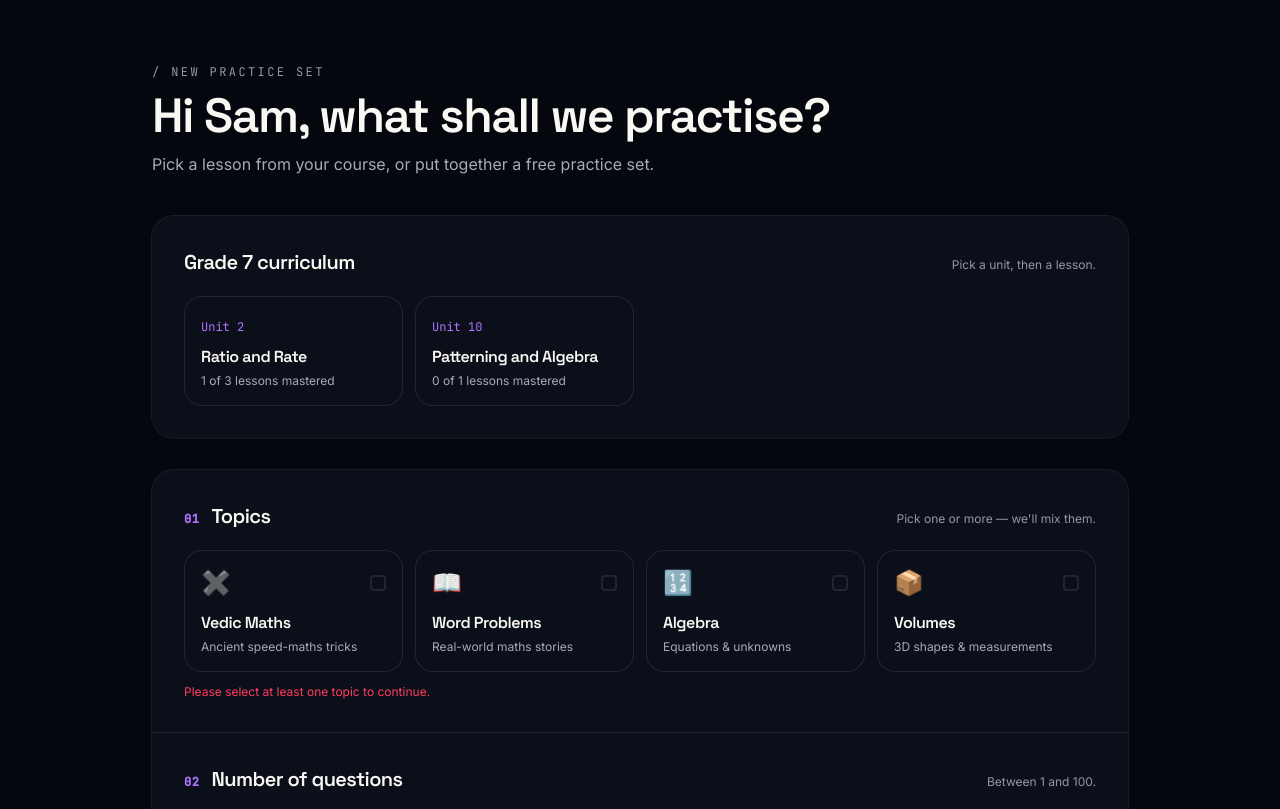
Test: setup stage — lesson picker › shows completion badges from lesson status
The width and height of the screenshot is (1280, 809).
Click the button "Unit 2 Ratio and Rate 1 of 3 lessons mastered" at (294,351), box [184,296,403,406]
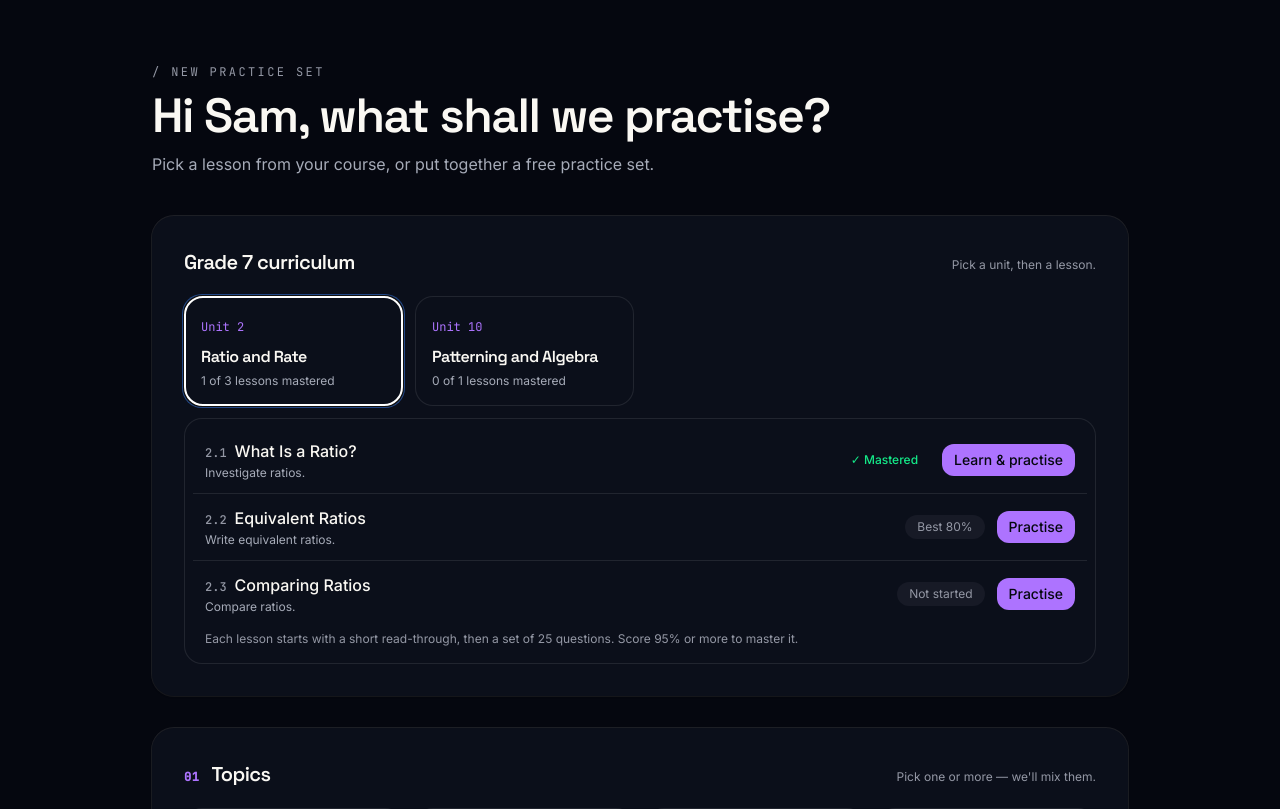
Check: the text "✓ Mastered" is shown, box [851,452,918,467]
Check: the text "Best 80%" is shown, box [905,515,985,539]
Check: the text "Not started" is shown, box [897,582,985,606]
